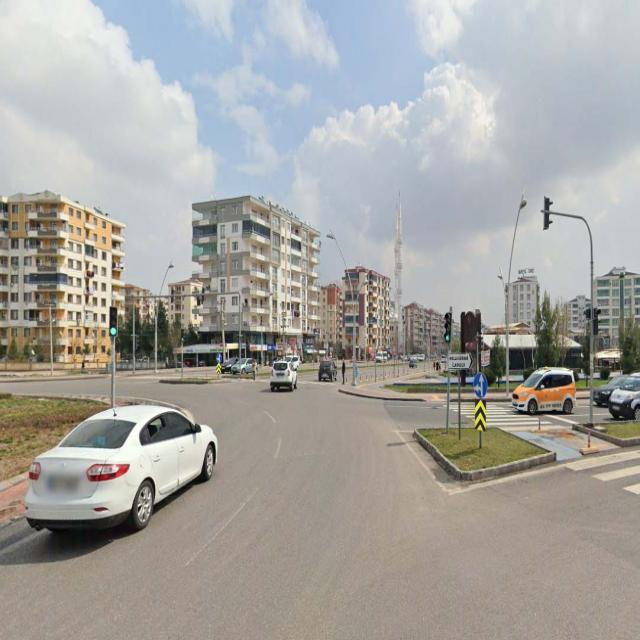ilerisol: (474, 373, 487, 397), (216, 353, 222, 363)
yesil: (109, 307, 118, 338), (446, 312, 452, 342)
